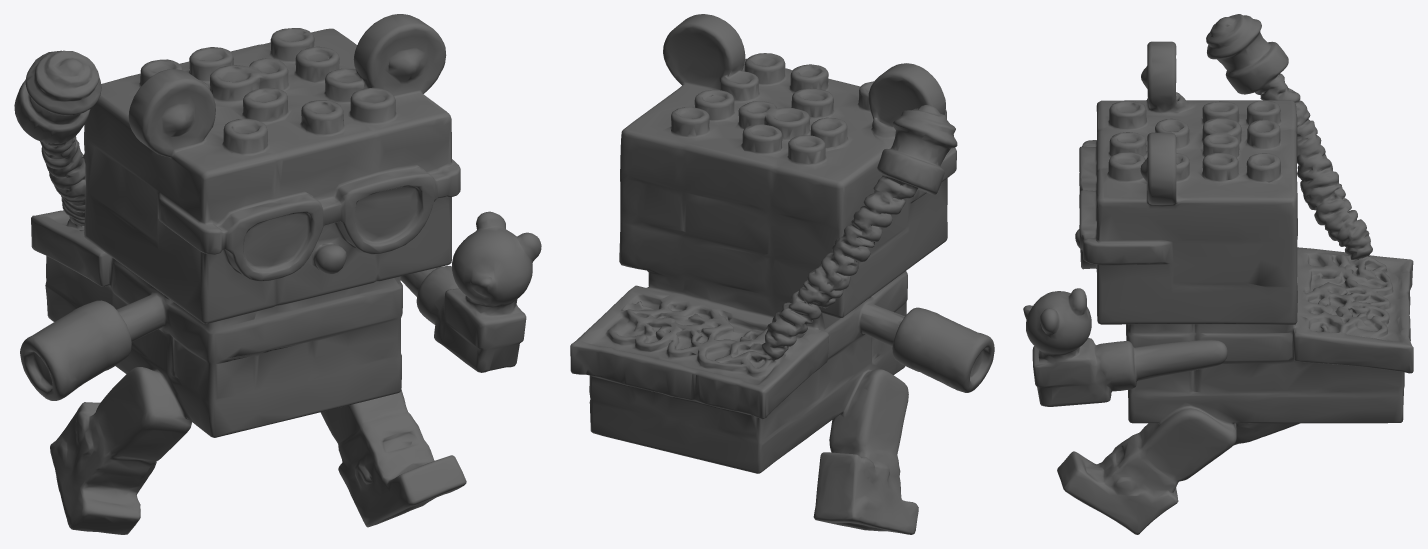
The picture shows the model from 3 angles, left to right: view 1: azimuth 30°, elevation 25°; view 2: azimuth 150°, elevation 25°; view 3: azimuth 270°, elevation 25°; orthographic projection. The views are drawn at different scales.
Parts seen in each view (by area): view 1: mesh_uvwarp; view 2: mesh_uvwarp; view 3: mesh_uvwarp.
Part boxes in pixels (x1=…): mesh_uvwarp: x1=14, y1=14, x2=541, y2=534; mesh_uvwarp: x1=570, y1=14, x2=994, y2=534; mesh_uvwarp: x1=1023, y1=14, x2=1413, y2=534.
Size of the model in its own units: 1.77 by 2 by 1.74.
1 material, 1 textured.
